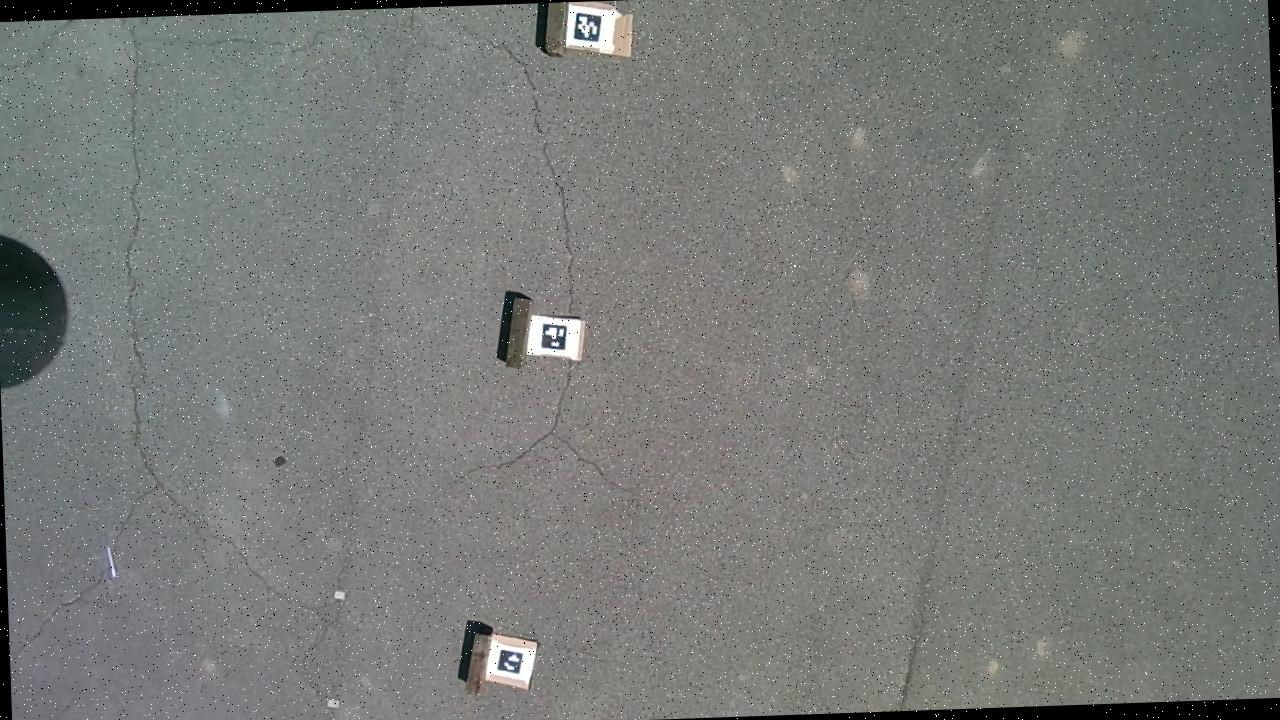probes: (106, 546, 117, 578)
